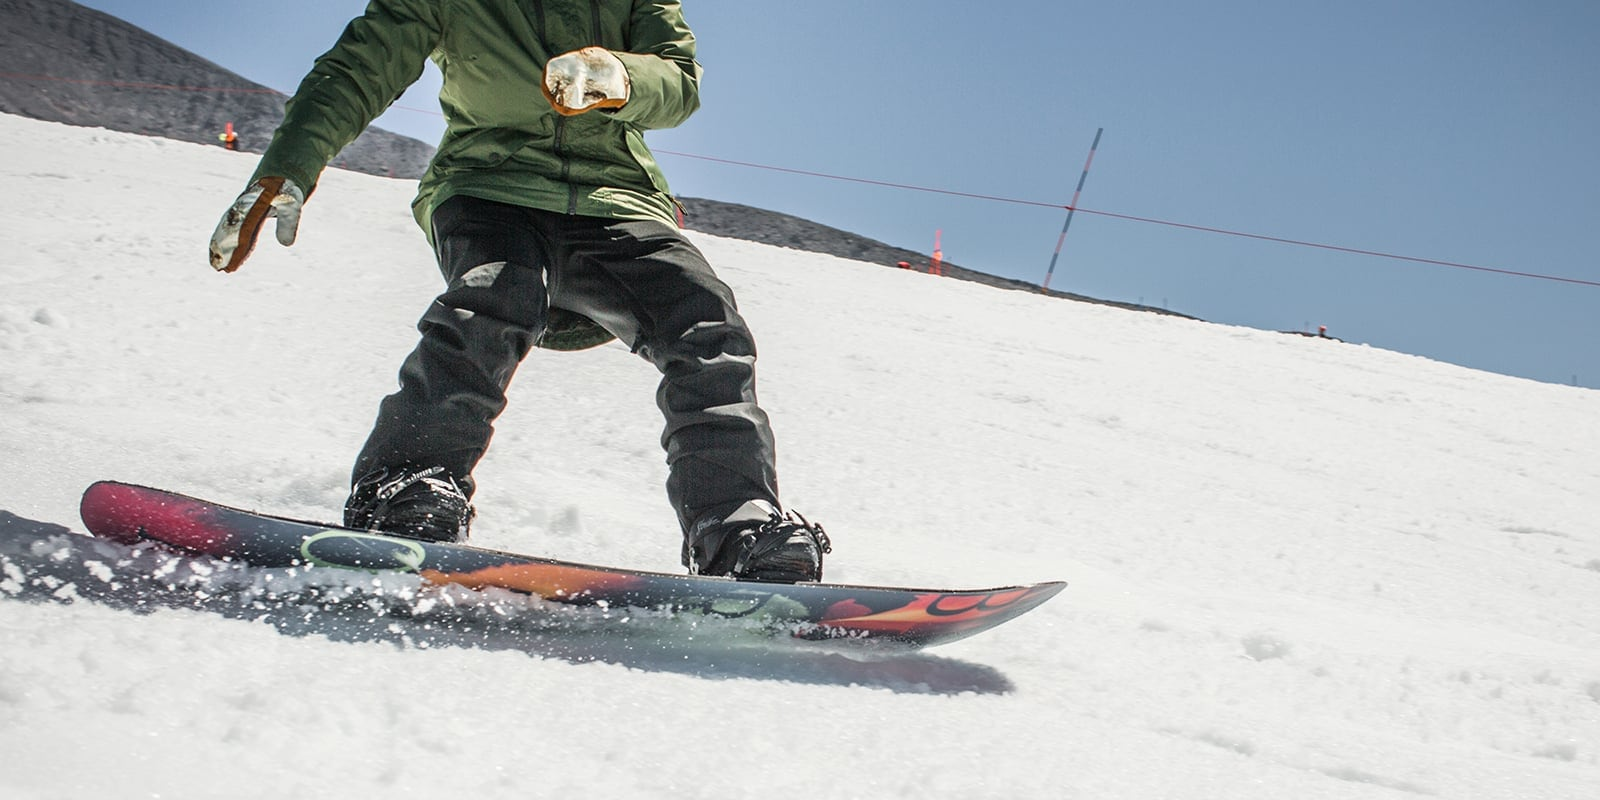snowboarder: (83, 0, 1064, 708)
